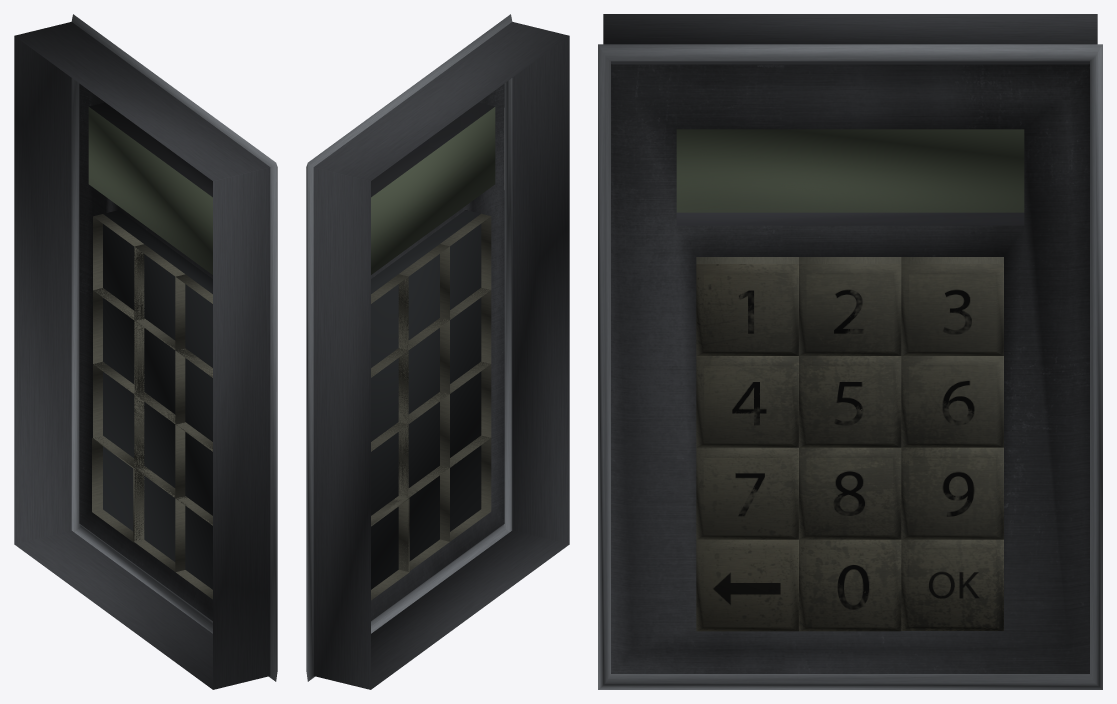
Rendered from FPH_NumericPad.fbx.
The picture shows the model from 3 angles, left to right: view 1: azimuth 30°, elevation 25°; view 2: azimuth 150°, elevation 25°; view 3: azimuth 270°, elevation 25°; orthographic projection. The views are drawn at different scales.
Visible parts, largest first — view 1: FPH_NumericPad, FPH_NumericPadButton_002, FPH_NumericPadButton_009, FPH_NumericPadButton_011, FPH_NumericPadButton_008, FPH_NumericPadButton_003, FPH_NumericPadButton_006, FPH_NumericPadButton, FPH_NumericPadButton_005, FPH_NumericPadButton_004, FPH_NumericPadButton_001, FPH_NumericPadButton_007; view 2: FPH_NumericPad, FPH_NumericPadButton_010, FPH_NumericPadButton_001, FPH_NumericPadButton_007, FPH_NumericPadButton_004, FPH_NumericPadButton_011, FPH_NumericPadButton_006, FPH_NumericPadButton_003, FPH_NumericPadButton_008, FPH_NumericPadButton_002, FPH_NumericPadButton_009, FPH_NumericPadButton_005 (+1 smaller); view 3: FPH_NumericPad, FPH_NumericPadButton_003, FPH_NumericPadButton_002, FPH_NumericPadButton_001, FPH_NumericPadButton_010, FPH_NumericPadButton_009, FPH_NumericPadButton_007, FPH_NumericPadButton_008, FPH_NumericPadButton_011, FPH_NumericPadButton_006, FPH_NumericPadButton_005, FPH_NumericPadButton_004 (+1 smaller).
Part boxes in pixels (x1,y1,x2,y2): FPH_NumericPad: [14, 14, 277, 689]; FPH_NumericPadButton_002: [134, 244, 185, 350]; FPH_NumericPadButton_009: [93, 361, 144, 467]; FPH_NumericPadButton_011: [134, 466, 185, 572]; FPH_NumericPadButton_008: [134, 392, 185, 498]; FPH_NumericPadButton_003: [93, 214, 144, 320]; FPH_NumericPadButton_006: [93, 288, 144, 393]; FPH_NumericPadButton: [92, 437, 144, 542]; FPH_NumericPadButton_005: [134, 318, 185, 424]; FPH_NumericPadButton_004: [176, 348, 212, 451]; FPH_NumericPadButton_001: [176, 274, 212, 376]; FPH_NumericPadButton_007: [175, 422, 212, 524]; FPH_NumericPad: [306, 14, 569, 689]; FPH_NumericPadButton_010: [440, 435, 491, 541]; FPH_NumericPadButton_001: [440, 213, 491, 319]; FPH_NumericPadButton_007: [440, 361, 491, 467]; FPH_NumericPadButton_004: [440, 287, 491, 393]; FPH_NumericPadButton_011: [398, 465, 449, 571]; FPH_NumericPadButton_006: [371, 348, 408, 450]; FPH_NumericPadButton_003: [371, 274, 408, 376]; FPH_NumericPadButton_008: [398, 391, 449, 497]; FPH_NumericPadButton_002: [398, 244, 449, 349]; FPH_NumericPadButton_009: [371, 422, 408, 525]; FPH_NumericPadButton_005: [398, 318, 449, 423]; FPH_NumericPad: [598, 14, 1102, 689]; FPH_NumericPadButton_003: [901, 257, 1003, 355]; FPH_NumericPadButton_002: [799, 257, 901, 355]; FPH_NumericPadButton_001: [696, 257, 798, 355]; FPH_NumericPadButton_010: [696, 539, 798, 631]; FPH_NumericPadButton_009: [901, 447, 1003, 539]; FPH_NumericPadButton_007: [696, 447, 798, 539]; FPH_NumericPadButton_008: [799, 447, 901, 539]; FPH_NumericPadButton_011: [799, 539, 901, 631]; FPH_NumericPadButton_006: [901, 356, 1003, 447]; FPH_NumericPadButton_005: [799, 356, 901, 447]; FPH_NumericPadButton_004: [696, 356, 798, 447].
Bounding box in the file's own units: 0.2198 × 1.32 × 0.9332.
